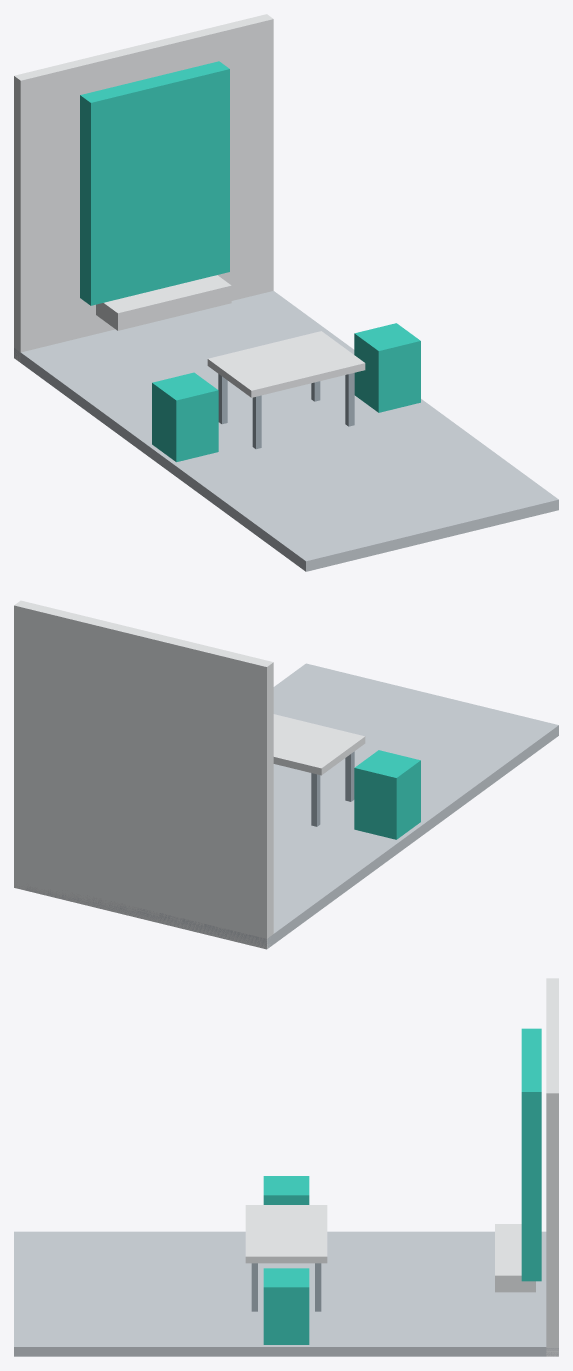
3 views of the same model, one above another, from view 1: azimuth 30°, elevation 25°; view 2: azimuth 150°, elevation 25°; view 3: azimuth 270°, elevation 25° (orthographic). The views are drawn at different scales.
Visible parts, largest first — view 1: Exhibition Booth Concept; view 2: Exhibition Booth Concept; view 3: Exhibition Booth Concept.
Part boxes in pixels (x1,y1,x2,y2): Exhibition Booth Concept: (14, 14, 558, 571); Exhibition Booth Concept: (14, 600, 558, 949); Exhibition Booth Concept: (14, 978, 558, 1356).
Size of the model in its own units: 3 by 3.2 by 6.
